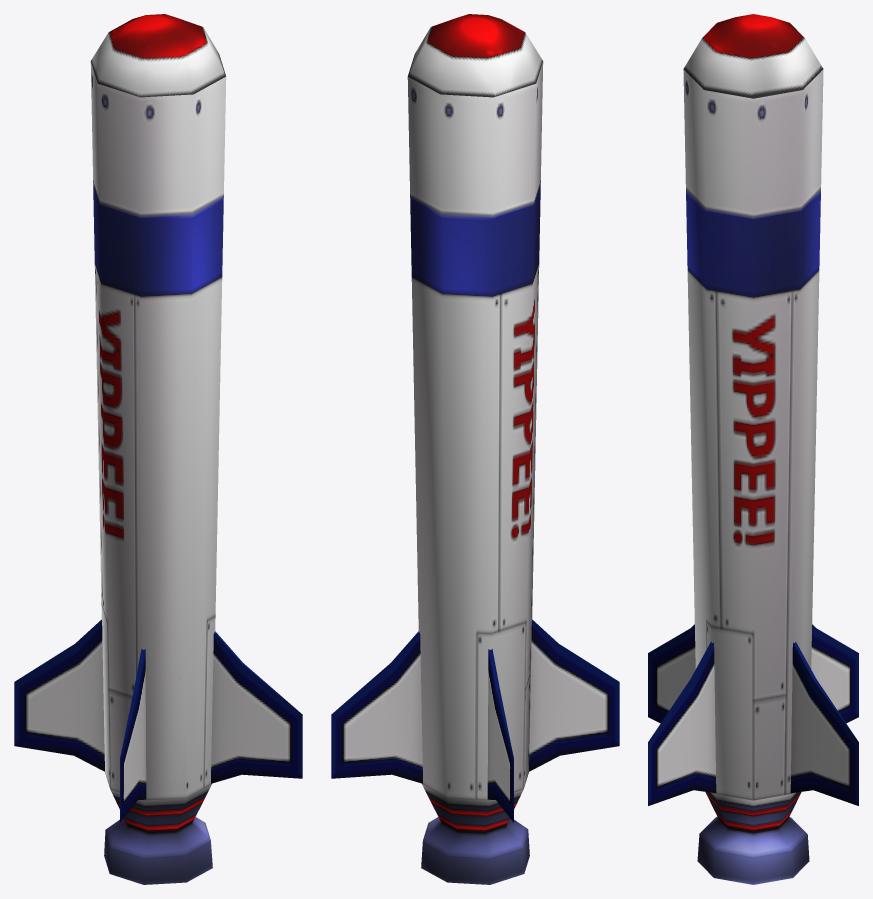
The model's file is lastattack_missile.FBX.
3 views of the same model, side by side, from view 1: azimuth 30°, elevation 25°; view 2: azimuth 150°, elevation 25°; view 3: azimuth 270°, elevation 25° (orthographic).
Parts seen in each view (by area): view 1: lastattack_missile; view 2: lastattack_missile; view 3: lastattack_missile.
Boxes of the visible parts, x1,y1,x2,y2 form: lastattack_missile: (14,14,302,884); lastattack_missile: (331,14,619,884); lastattack_missile: (648,14,858,884).
Bounding box in the file's own units: 0.0617 × 0.2713 × 0.0617.
